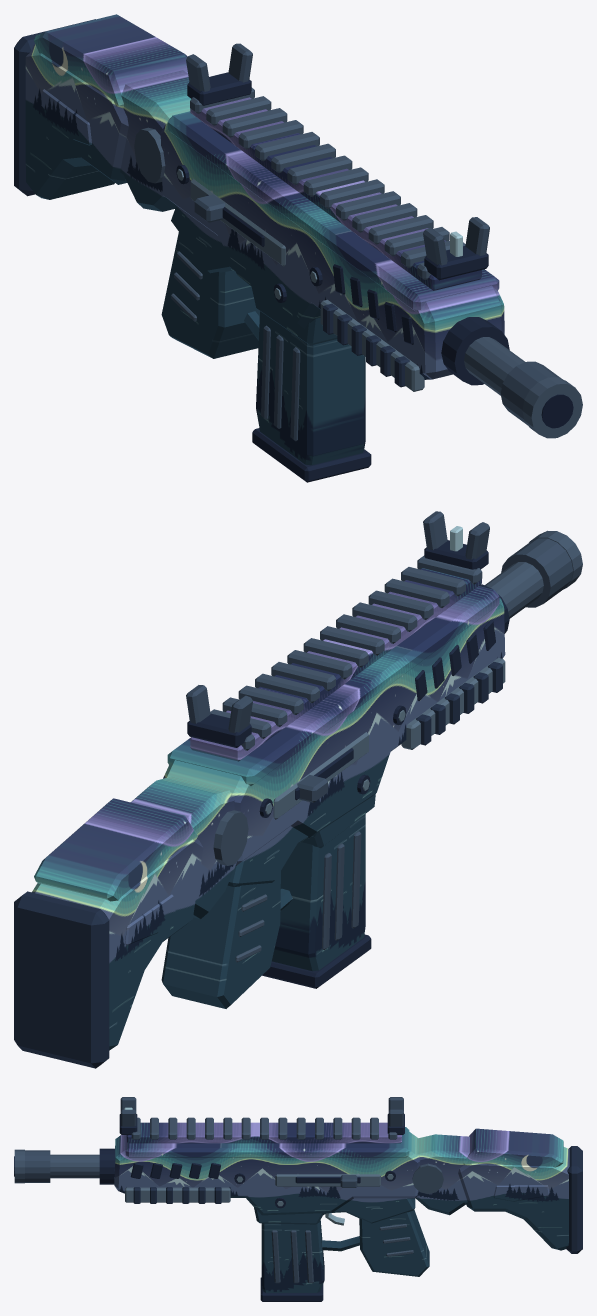
The model's file is SCAR_Aurora.glb.
3 views of the same model, one above another, from view 1: azimuth 30°, elevation 25°; view 2: azimuth 150°, elevation 25°; view 3: azimuth 270°, elevation 25° (orthographic). The views are drawn at different scales.
Visible parts, largest first — view 1: Main, Stock, Magazine; view 2: Main, Stock, Magazine; view 3: Main, Stock, Magazine.
Part boxes in pixels (box(x1,y1,x2,y2)): Main: box(160, 43, 582, 438); Stock: box(14, 14, 190, 211); Magazine: box(252, 311, 371, 482); Main: box(161, 511, 582, 1008); Stock: box(14, 776, 248, 1068); Magazine: box(262, 814, 371, 988); Main: box(14, 1097, 429, 1276); Stock: box(412, 1128, 582, 1253); Magazine: box(260, 1220, 324, 1301).
Bounding box in the file's own units: 0.549 × 1.45 × 3.93.
1 material, 1 textured.
